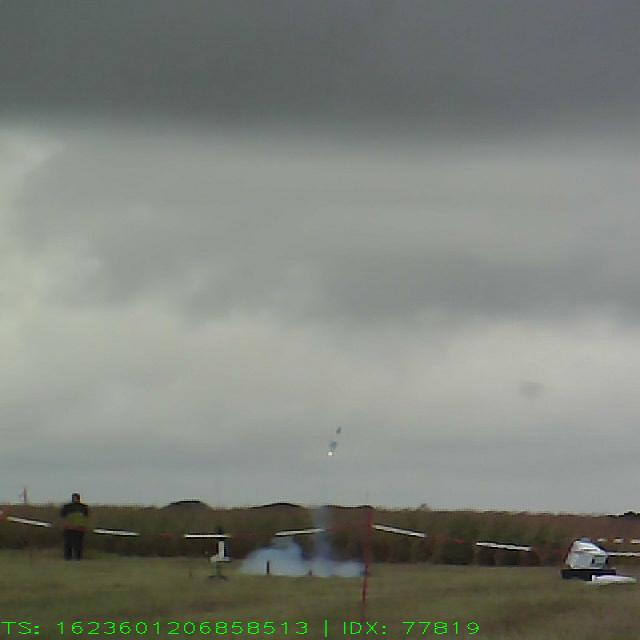Rocket: (210, 526, 231, 562), (325, 425, 344, 452)
